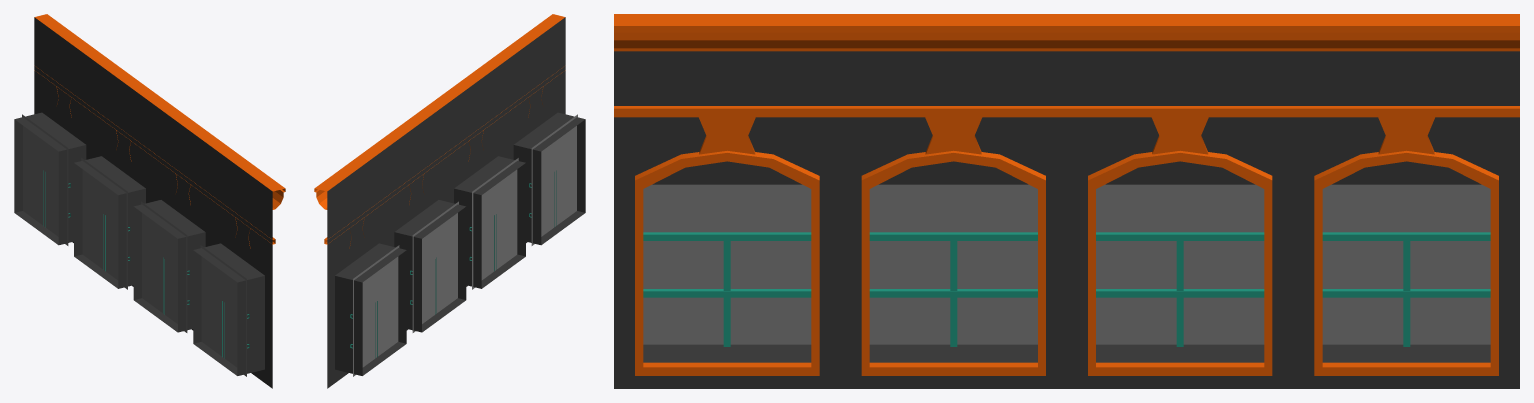
The model's file is SM_M_Build_01.fbx.
3 views of the same model, side by side, from view 1: azimuth 30°, elevation 25°; view 2: azimuth 150°, elevation 25°; view 3: azimuth 270°, elevation 25° (orthographic). The views are drawn at different scales.
Parts seen in each view (by area): view 1: SM_M_Build_01, Box015, Box018; view 2: SM_M_Build_01, Box015, Box018; view 3: SM_M_Build_01, Box015, Box018, Box033, Box034, Box032, Box035, Box020, Box019, Box017, Box021.
Part boxes in pixels (bbox=[...]): SM_M_Build_01: bbox=[14, 17, 272, 388]; Box015: bbox=[34, 14, 285, 209]; Box018: bbox=[34, 68, 275, 244]; SM_M_Build_01: bbox=[327, 17, 585, 388]; Box015: bbox=[314, 14, 565, 209]; Box018: bbox=[324, 68, 565, 244]; SM_M_Build_01: bbox=[614, 51, 1519, 388]; Box015: bbox=[614, 14, 1519, 51]; Box018: bbox=[614, 106, 1519, 117]; Box033: bbox=[869, 232, 1037, 346]; Box034: bbox=[1096, 232, 1264, 346]; Box032: bbox=[643, 232, 811, 346]; Box035: bbox=[1322, 232, 1490, 346]; Box020: bbox=[1151, 117, 1208, 154]; Box019: bbox=[925, 117, 982, 154]; Box017: bbox=[699, 117, 755, 154]; Box021: bbox=[1378, 117, 1434, 154].
Bounding box in the file's own units: 112 × 521 × 1140.
